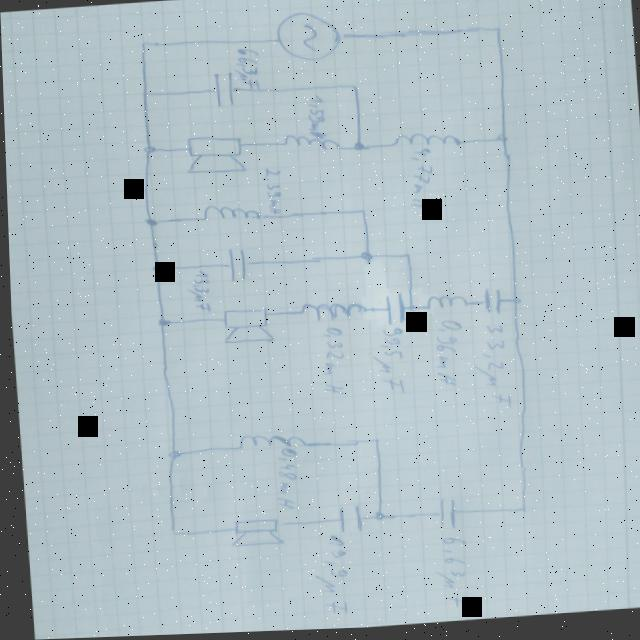capacitor: (330, 501, 360, 537), (211, 70, 235, 112), (223, 247, 247, 285), (381, 292, 405, 329), (431, 497, 454, 535), (478, 286, 501, 320)
inductor: (291, 299, 369, 326), (387, 130, 464, 155), (228, 431, 308, 453), (197, 201, 264, 227), (278, 132, 343, 156), (417, 295, 469, 314)
junction: (139, 141, 158, 159), (151, 314, 172, 329), (368, 509, 385, 525), (348, 141, 367, 155), (356, 250, 373, 265), (352, 205, 369, 220), (491, 133, 509, 147), (163, 446, 179, 461), (147, 261, 164, 275), (488, 26, 505, 38), (162, 526, 177, 539), (504, 297, 520, 309), (137, 88, 152, 100), (142, 216, 157, 228), (511, 506, 525, 518), (397, 253, 412, 264), (402, 304, 416, 315), (137, 40, 152, 50), (346, 84, 360, 94), (366, 437, 378, 447)
source: (273, 9, 343, 65)
text: (466, 326, 510, 414), (306, 534, 347, 618), (428, 537, 469, 613), (368, 328, 404, 397), (429, 320, 463, 390), (403, 149, 436, 216), (315, 327, 345, 398), (269, 447, 299, 511), (233, 46, 262, 90), (183, 269, 209, 314), (260, 167, 283, 217), (304, 95, 328, 141)
